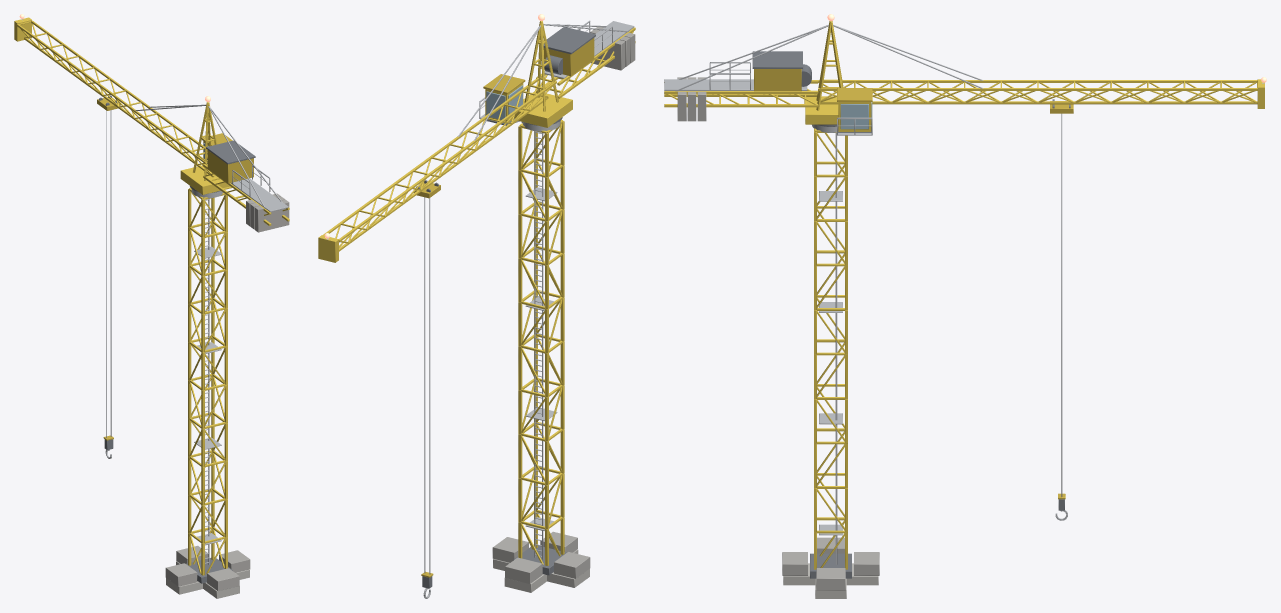
File: th21_turmdrehkran.glb
The picture shows the model from 3 angles, left to right: view 1: azimuth 30°, elevation 25°; view 2: azimuth 150°, elevation 25°; view 3: azimuth 270°, elevation 25°; orthographic projection. The views are drawn at different scales.
Parts seen in each view (by area): view 1: Cube.324, Cube.320, Cube.235, Cube.218, Cube.323, Cube.325, Cube.236, Cylinder.009, Cube.237, Cube.132, Cube.005, Cube.003 (+3 smaller); view 2: Cube.218, Cube.235, Cube.236, Cube.325, Cube.324, Cube.237, Cube.004, Cylinder.008, Cylinder.009, Cube.003, Cube.131, Cube.132 (+9 smaller); view 3: Cube.237, Cube.235, Cube.236, Cube.324, Cube.132, Cube.320, Cube.325, Cube.218.
Boxes of the visible parts, x1,y1,x2,y2 form: Cube.324: [207, 150, 253, 183]; Cube.320: [231, 178, 288, 212]; Cube.235: [17, 24, 207, 163]; Cube.218: [180, 164, 230, 194]; Cube.323: [254, 199, 289, 232]; Cube.325: [206, 140, 255, 164]; Cube.236: [31, 20, 207, 151]; Cylinder.009: [110, 110, 111, 436]; Cube.237: [24, 37, 214, 177]; Cube.132: [208, 199, 209, 564]; Cube.005: [207, 568, 239, 591]; Cube.003: [165, 563, 197, 586]; Cube.218: [514, 91, 572, 127]; Cube.235: [339, 81, 556, 242]; Cube.236: [323, 78, 538, 235]; Cube.325: [543, 27, 595, 54]; Cube.324: [541, 38, 594, 76]; Cube.237: [339, 96, 548, 251]; Cube.004: [505, 557, 542, 583]; Cylinder.008: [429, 198, 430, 574]; Cylinder.009: [424, 197, 425, 573]; Cube.003: [554, 552, 590, 578]; Cube.131: [542, 133, 543, 559]; Cube.132: [534, 131, 535, 557]; Cube.237: [820, 101, 1257, 104]; Cube.235: [818, 80, 1257, 82]; Cube.236: [818, 88, 1257, 90]; Cube.324: [754, 69, 801, 91]; Cube.132: [835, 133, 837, 564]; Cube.320: [664, 79, 807, 90]; Cube.325: [752, 51, 802, 68]; Cube.218: [805, 96, 838, 124].
Size of the model in its own units: 5.33 by 34.02 by 32.91.
